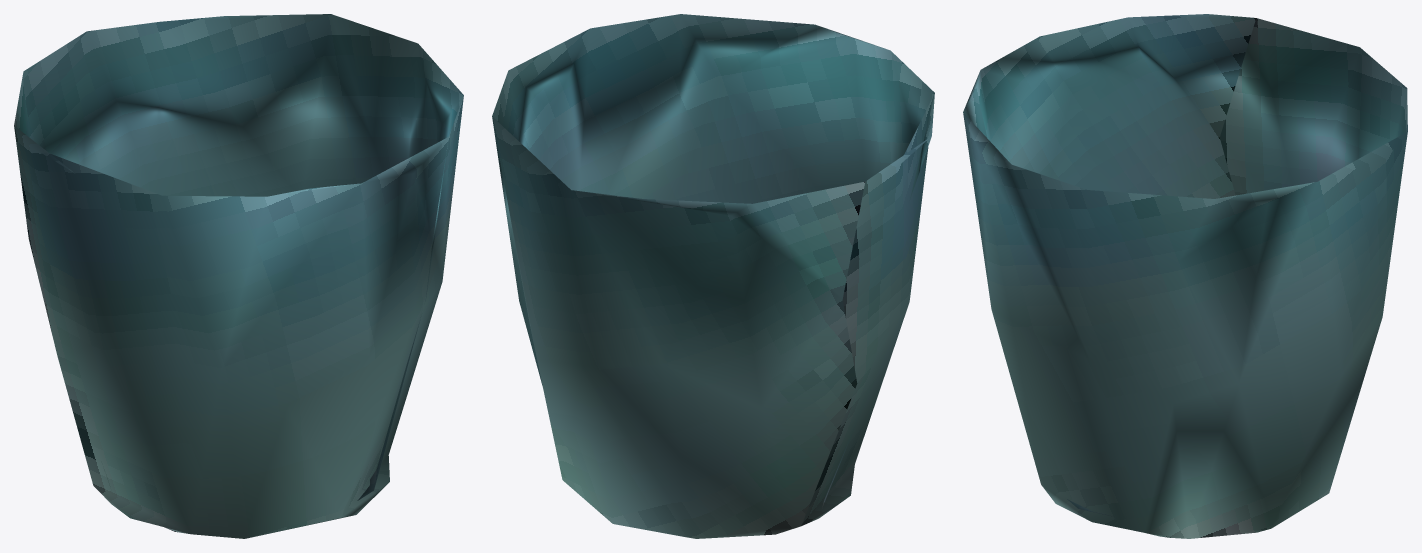
The model's file is Ecoforms_Pot_Nova_6_Turquoise-low.glb.
3 renders of one model, left to right at view 1: azimuth 30°, elevation 25°; view 2: azimuth 150°, elevation 25°; view 3: azimuth 270°, elevation 25°, orthographic.
Parts seen in each view (by area): view 1: Ecoforms_Pot_Nova_6_Turquoise; view 2: Ecoforms_Pot_Nova_6_Turquoise; view 3: Ecoforms_Pot_Nova_6_Turquoise.
Boxes of the visible parts, x1,y1,x2,y2 form: Ecoforms_Pot_Nova_6_Turquoise: (14,14,463,538); Ecoforms_Pot_Nova_6_Turquoise: (492,14,934,538); Ecoforms_Pot_Nova_6_Turquoise: (963,14,1407,538).
Size of the model in its own units: 0.1797 by 0.168 by 0.1787.
1 material, 1 textured.
